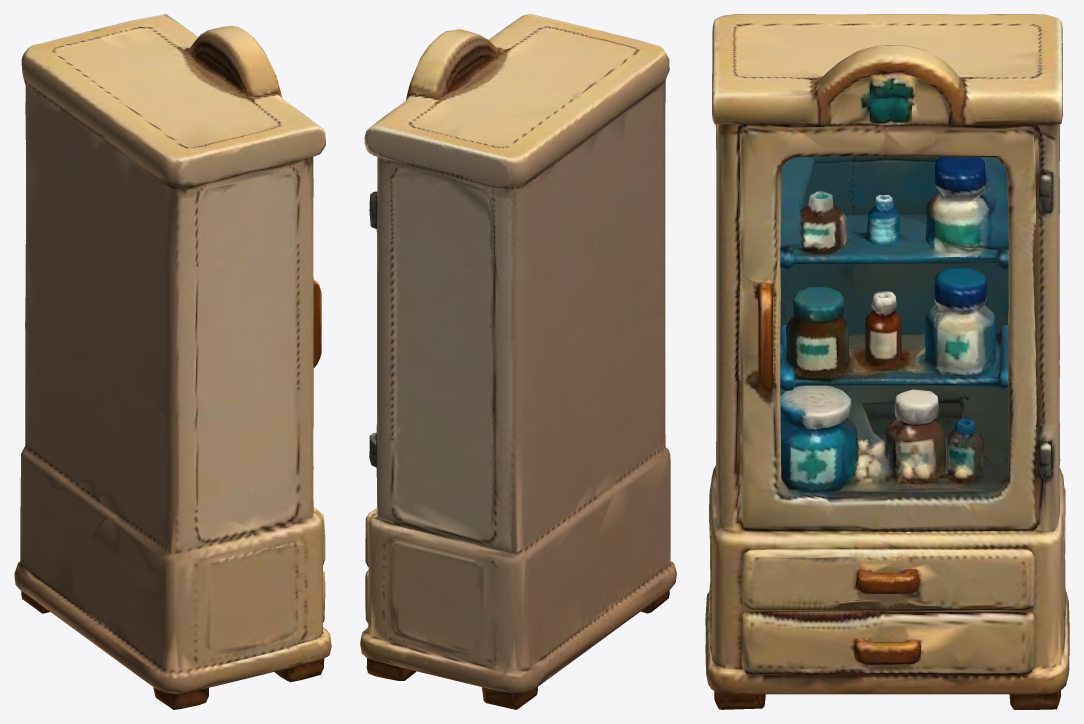
Rendered from shelf.glb.
3 renders of one model, left to right at view 1: azimuth 30°, elevation 25°; view 2: azimuth 150°, elevation 25°; view 3: azimuth 270°, elevation 25°, orthographic. The views are drawn at different scales.
Parts seen in each view (by area): view 1: tripo_node_6eb8189e-6ad5-4155-8a89-35d41bd3f884; view 2: tripo_node_6eb8189e-6ad5-4155-8a89-35d41bd3f884; view 3: tripo_node_6eb8189e-6ad5-4155-8a89-35d41bd3f884.
Part boxes in pixels (x1,y1,x2,y2): tripo_node_6eb8189e-6ad5-4155-8a89-35d41bd3f884: (14, 14, 331, 709); tripo_node_6eb8189e-6ad5-4155-8a89-35d41bd3f884: (360, 14, 676, 709); tripo_node_6eb8189e-6ad5-4155-8a89-35d41bd3f884: (705, 14, 1069, 709).
Bounding box in the file's own units: 0.3462 × 0.9999 × 0.5023.
Materials: 1 (1 with a texture image).
